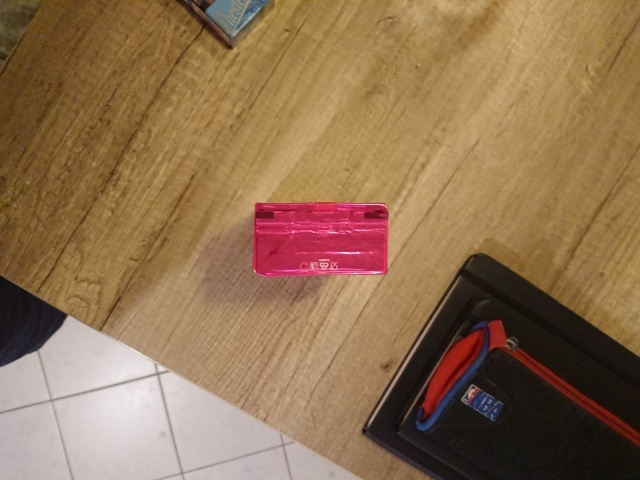Barcaffe Classic Original 225g: (251, 199, 391, 280)
